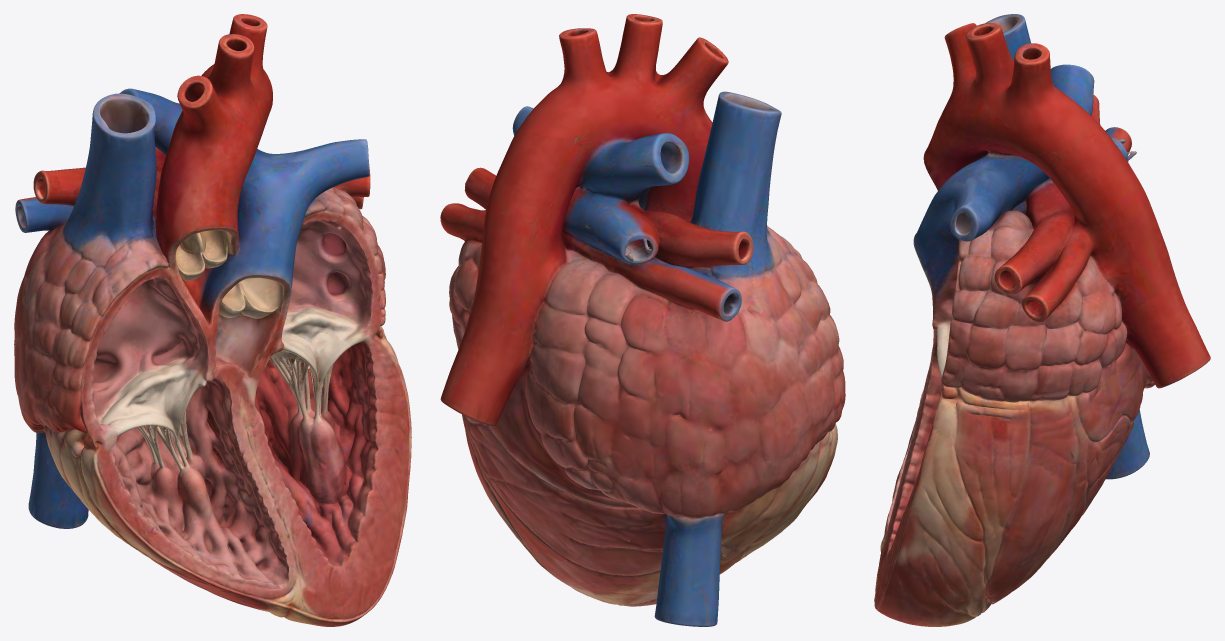
Rendered from human-heart-cutaway-light.glb.
The picture shows the model from 3 angles, left to right: view 1: azimuth 30°, elevation 25°; view 2: azimuth 150°, elevation 25°; view 3: azimuth 270°, elevation 25°; orthographic projection. The views are drawn at different scales.
Parts seen in each view (by area): view 1: human-heart-cutaway; view 2: human-heart-cutaway; view 3: human-heart-cutaway.
Boxes of the visible parts, x1,y1,x2,y2 form: human-heart-cutaway: (14,14,411,626); human-heart-cutaway: (440,14,845,626); human-heart-cutaway: (874,14,1210,626).
Size of the model in its own units: 0.0827 by 0.13 by 0.0701.
1 material, 1 textured.
